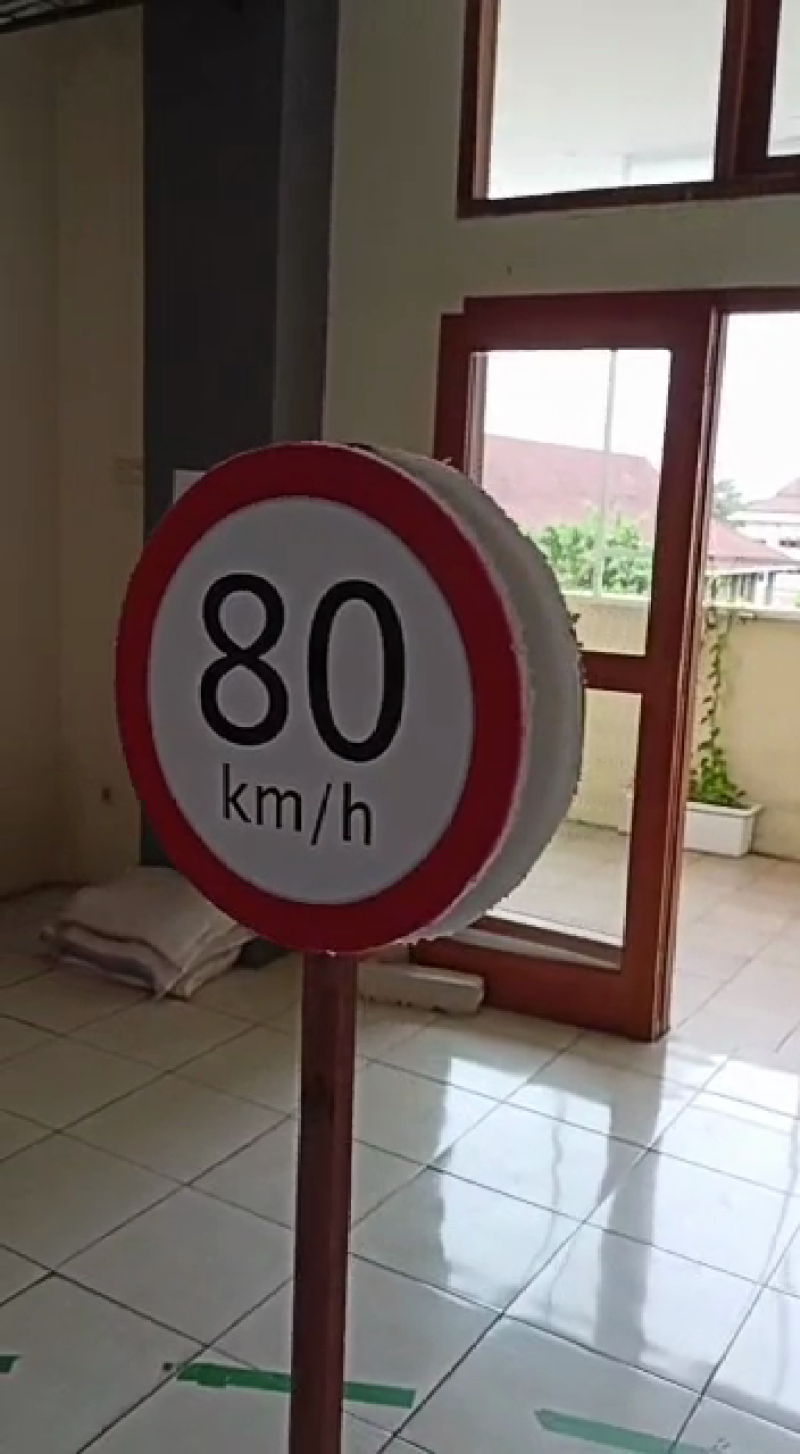batas maksimal 80kmperjam: (100, 429, 537, 953)
